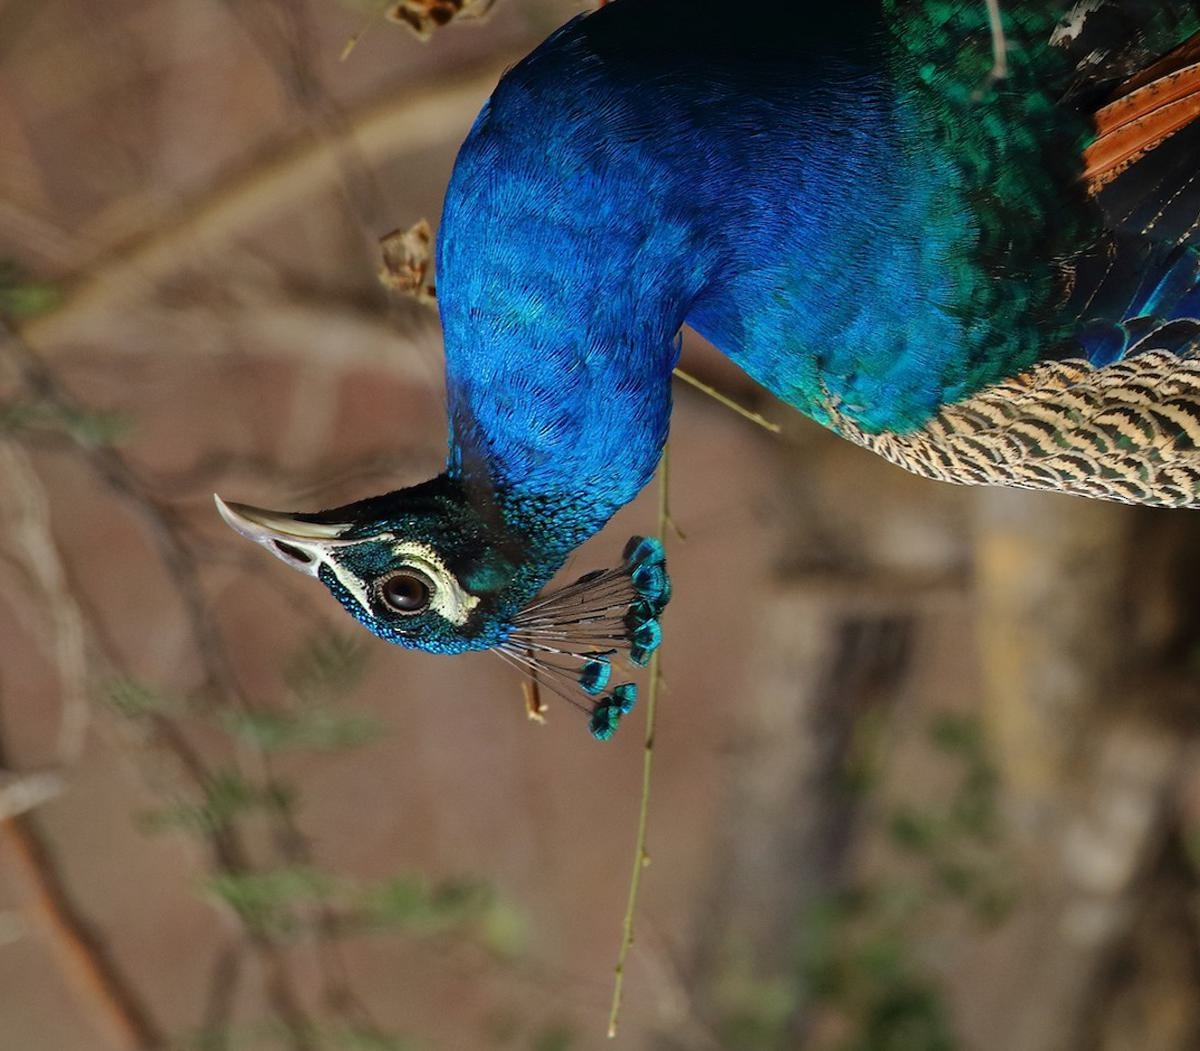peacock: (202, 24, 1191, 666)
